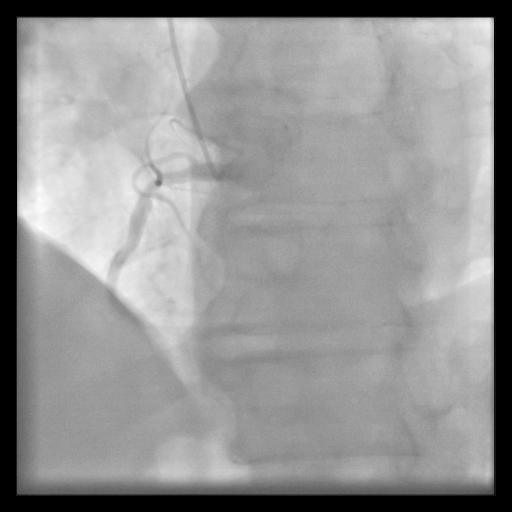Stenosis: (141, 173, 172, 193)
